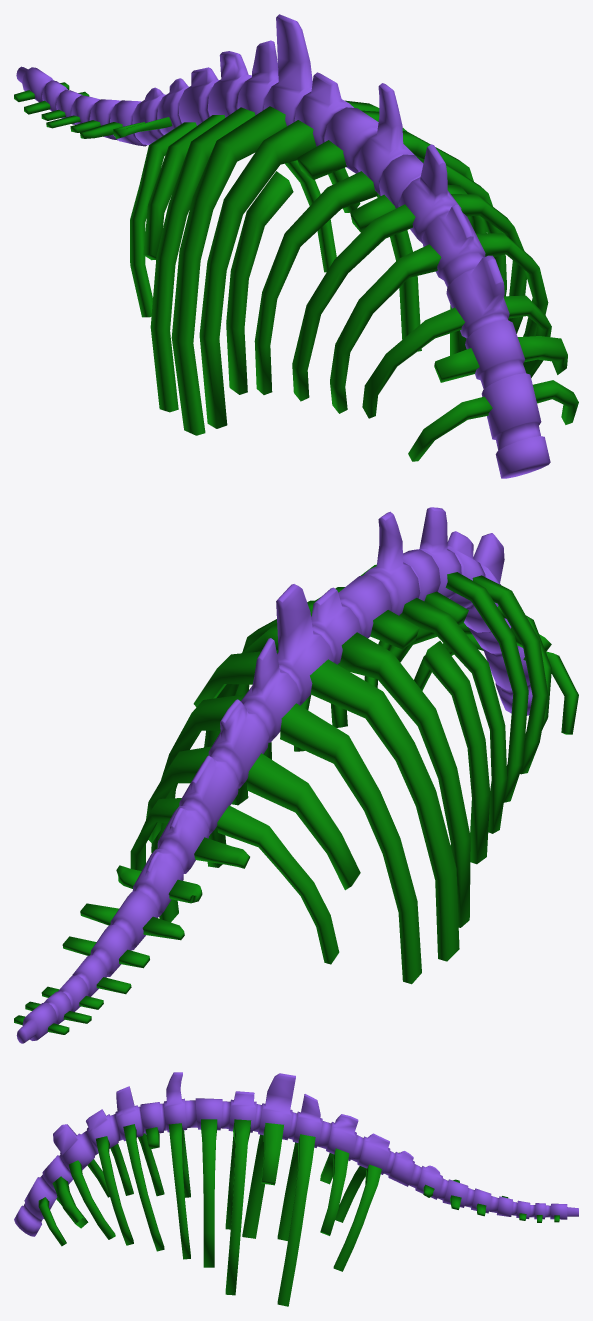
The model's file is bone.obj.
3 renders of one model, top to bottom at view 1: azimuth 30°, elevation 25°; view 2: azimuth 150°, elevation 25°; view 3: azimuth 270°, elevation 25°, orthographic. The views are drawn at different scales.
Visible parts, largest first — view 1: Line001, Line009, Line008, Line010, Line007, Line006, Line005, Line004, Line012, Line003, Line011, Line002 (+2 smaller); view 2: Line001, Line009, Line010, Line008, Line007, Line011, Line012, Line006, Line005, Line004, Line002, Line018 (+5 smaller); view 3: Line001, Line010, Line008, Line009, Line012, Line007, Line005, Line006, Line004, Line011, Line003, Line020 (+1 smaller).
Part boxes in pixels (x1=…): Line001: x1=16, y1=14, x2=550, y2=478; Line009: x1=171, y1=100, x2=379, y2=435; Line008: x1=199, y1=110, x2=466, y2=428; Line010: x1=150, y1=107, x2=421, y2=412; Line007: x1=226, y1=131, x2=486, y2=394; Line006: x1=254, y1=160, x2=506, y2=394; Line005: x1=292, y1=194, x2=526, y2=401; Line004: x1=330, y1=233, x2=548, y2=413; Line012: x1=130, y1=122, x2=336, y2=317; Line003: x1=362, y1=295, x2=551, y2=418; Line011: x1=143, y1=114, x2=360, y2=260; Line002: x1=408, y1=380, x2=578, y2=461; Line001: x1=16, y1=507, x2=532, y2=1043; Line009: x1=193, y1=649, x2=459, y2=961; Line010: x1=151, y1=694, x2=421, y2=984; Line008: x1=204, y1=624, x2=470, y2=927; Line007: x1=231, y1=600, x2=490, y2=864; Line011: x1=146, y1=746, x2=360, y2=890; Line012: x1=130, y1=798, x2=339, y2=964; Line006: x1=263, y1=587, x2=507, y2=833; Line005: x1=294, y1=564, x2=528, y2=802; Line004: x1=330, y1=575, x2=548, y2=774; Line002: x1=414, y1=634, x2=578, y2=734; Line018: x1=80, y1=903, x2=184, y2=940; Line001: x1=14, y1=1072, x2=578, y2=1236; Line010: x1=277, y1=1134, x2=315, y2=1306; Line008: x1=225, y1=1119, x2=251, y2=1295; Line009: x1=242, y1=1123, x2=283, y2=1238; Line012: x1=333, y1=1164, x2=381, y2=1271; Line007: x1=201, y1=1119, x2=217, y2=1267; Line005: x1=123, y1=1124, x2=164, y2=1251; Line006: x1=168, y1=1123, x2=190, y2=1259; Line004: x1=96, y1=1136, x2=133, y2=1245; Line011: x1=320, y1=1148, x2=349, y2=1235; Line003: x1=69, y1=1159, x2=115, y2=1239; Line020: x1=52, y1=1176, x2=88, y2=1228.
Bounding box in the file's own units: 11052 × 14477 × 36897.
